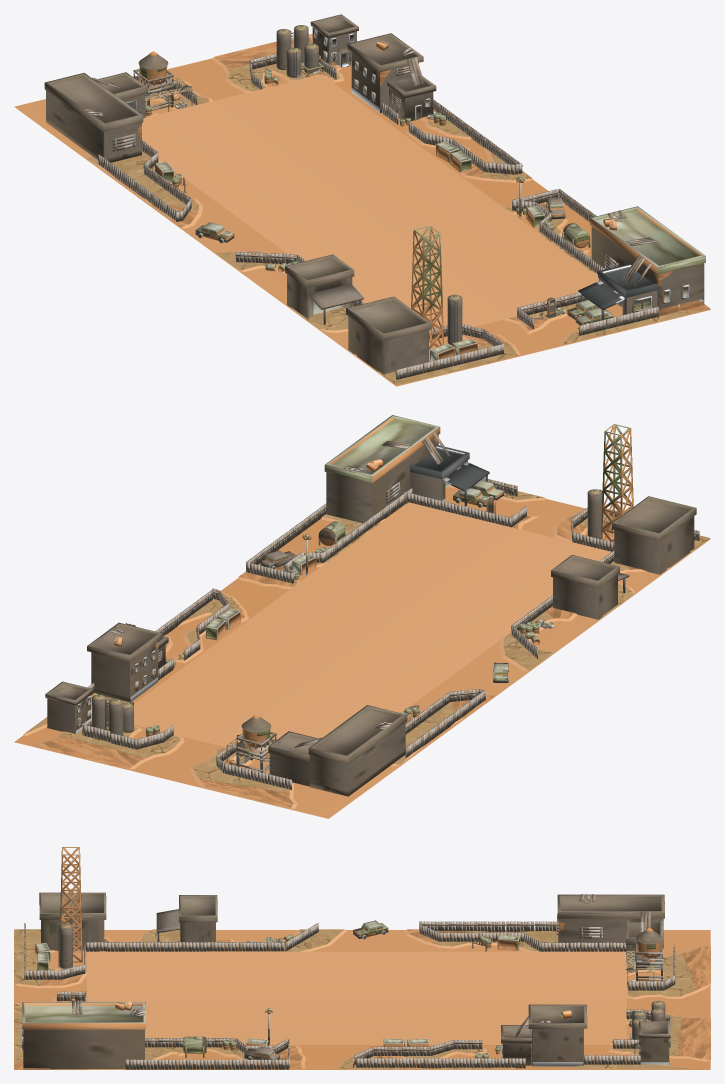
The model's file is Urban_location.fbx.
3 views of the same model, one above another, from view 1: azimuth 30°, elevation 25°; view 2: azimuth 150°, elevation 25°; view 3: azimuth 270°, elevation 25° (orthographic). The views are drawn at different scales.
Parts seen in each view (by area): view 1: Plane; view 2: Plane; view 3: Plane.
Part boxes in pixels (bbox=[...]): Plane: bbox=[14, 14, 710, 386]; Plane: bbox=[14, 415, 710, 818]; Plane: bbox=[14, 847, 710, 1069].
Size of the model in its own units: 30 by 10.85 by 63.18.
